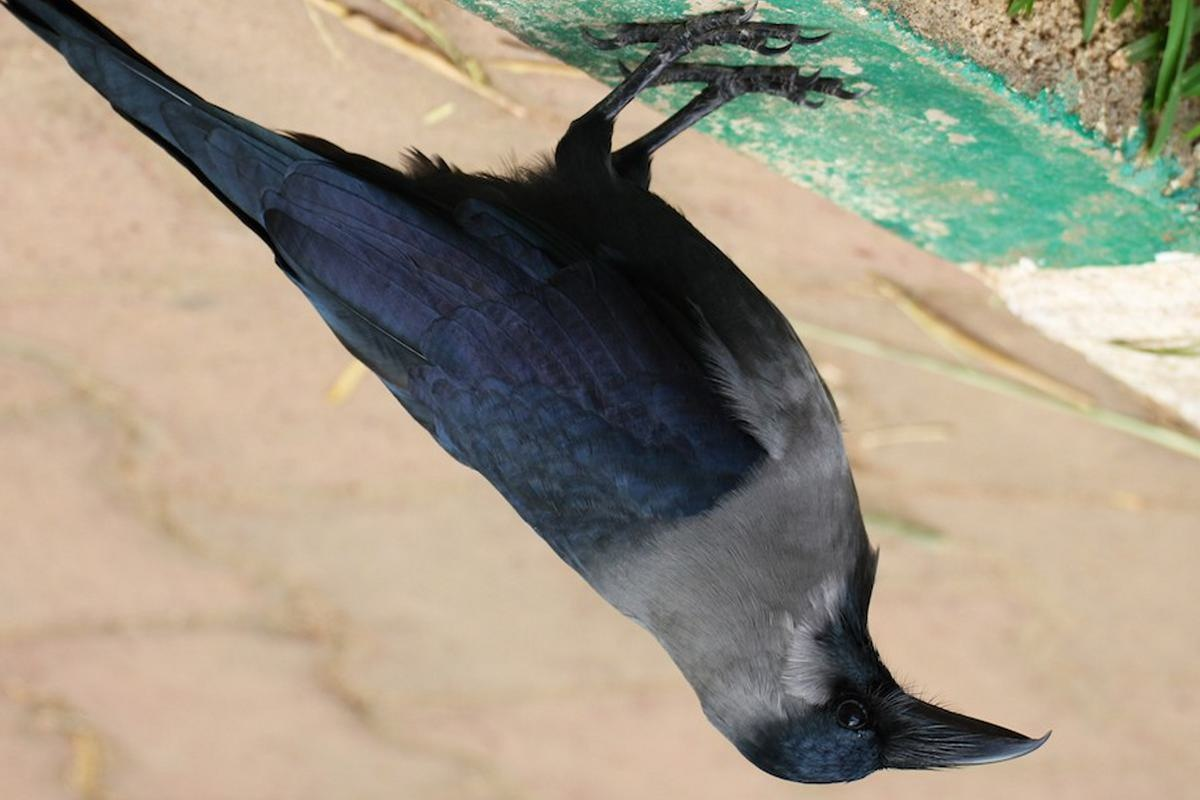crow: (1, 1, 1054, 799)
